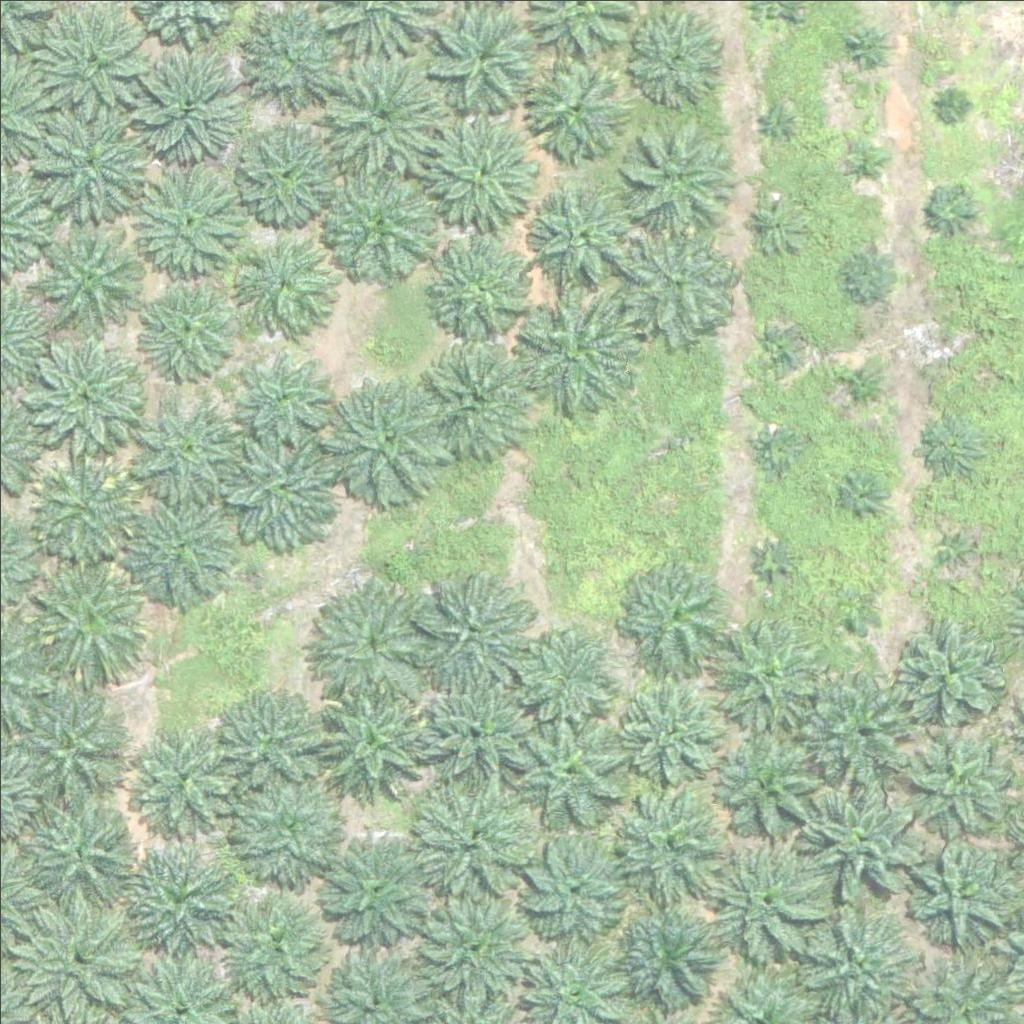Kelapa_Sawit: (894, 713, 1019, 839), (798, 769, 923, 895), (798, 654, 923, 780), (701, 839, 826, 965), (711, 726, 836, 852), (510, 702, 635, 828), (405, 882, 530, 1008), (406, 774, 531, 900), (410, 566, 535, 692), (311, 681, 436, 807), (307, 577, 432, 703), (18, 892, 143, 1018), (220, 423, 345, 549), (326, 370, 451, 496), (509, 285, 634, 411), (319, 52, 444, 178), (317, 162, 442, 288), (219, 882, 344, 1007), (230, 764, 355, 889), (27, 549, 152, 674), (621, 677, 734, 791), (609, 784, 722, 898), (508, 615, 621, 729), (419, 343, 532, 457), (889, 611, 1002, 724), (617, 559, 730, 672), (606, 897, 719, 1010), (322, 831, 435, 944), (216, 686, 329, 799), (25, 342, 138, 455), (28, 215, 141, 328), (34, 102, 147, 215), (135, 168, 248, 281), (429, 117, 542, 230), (135, 45, 247, 159), (908, 837, 1020, 950), (711, 611, 823, 724), (517, 827, 629, 940), (425, 671, 537, 784), (126, 723, 238, 836), (119, 848, 231, 961), (22, 791, 134, 904), (15, 693, 127, 806), (621, 225, 733, 338), (612, 119, 724, 232), (34, 459, 134, 560), (124, 497, 224, 598), (136, 399, 236, 500), (140, 278, 240, 379), (234, 346, 334, 447), (531, 187, 631, 288), (525, 59, 625, 160), (236, 232, 336, 332), (238, 123, 338, 223), (432, 239, 532, 339), (628, 10, 715, 98), (837, 243, 900, 306), (920, 412, 982, 475), (751, 198, 801, 249), (928, 185, 978, 236), (835, 363, 885, 414), (837, 473, 887, 523), (751, 326, 801, 376), (748, 536, 798, 586), (752, 425, 802, 475), (932, 521, 982, 571), (829, 590, 879, 640), (840, 136, 890, 186), (841, 22, 891, 72), (930, 335, 955, 360), (764, 106, 789, 131), (941, 92, 966, 117)
